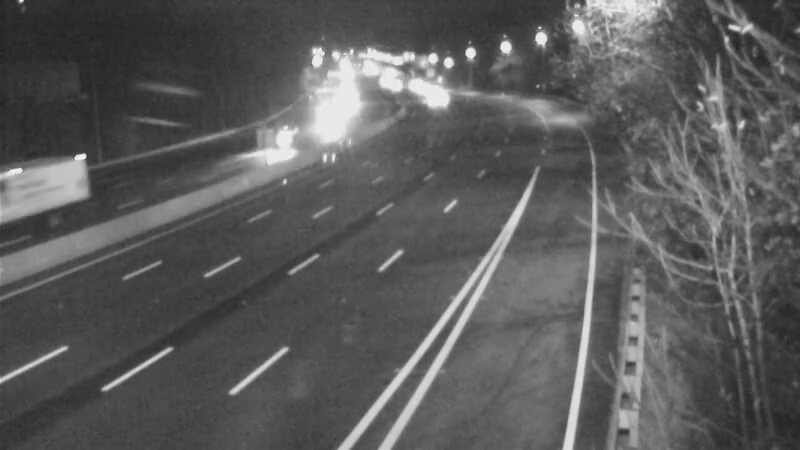vehicle: (14, 155, 94, 235), (392, 62, 442, 112), (399, 58, 449, 108), (411, 72, 461, 122), (258, 112, 308, 162), (306, 102, 356, 152)
